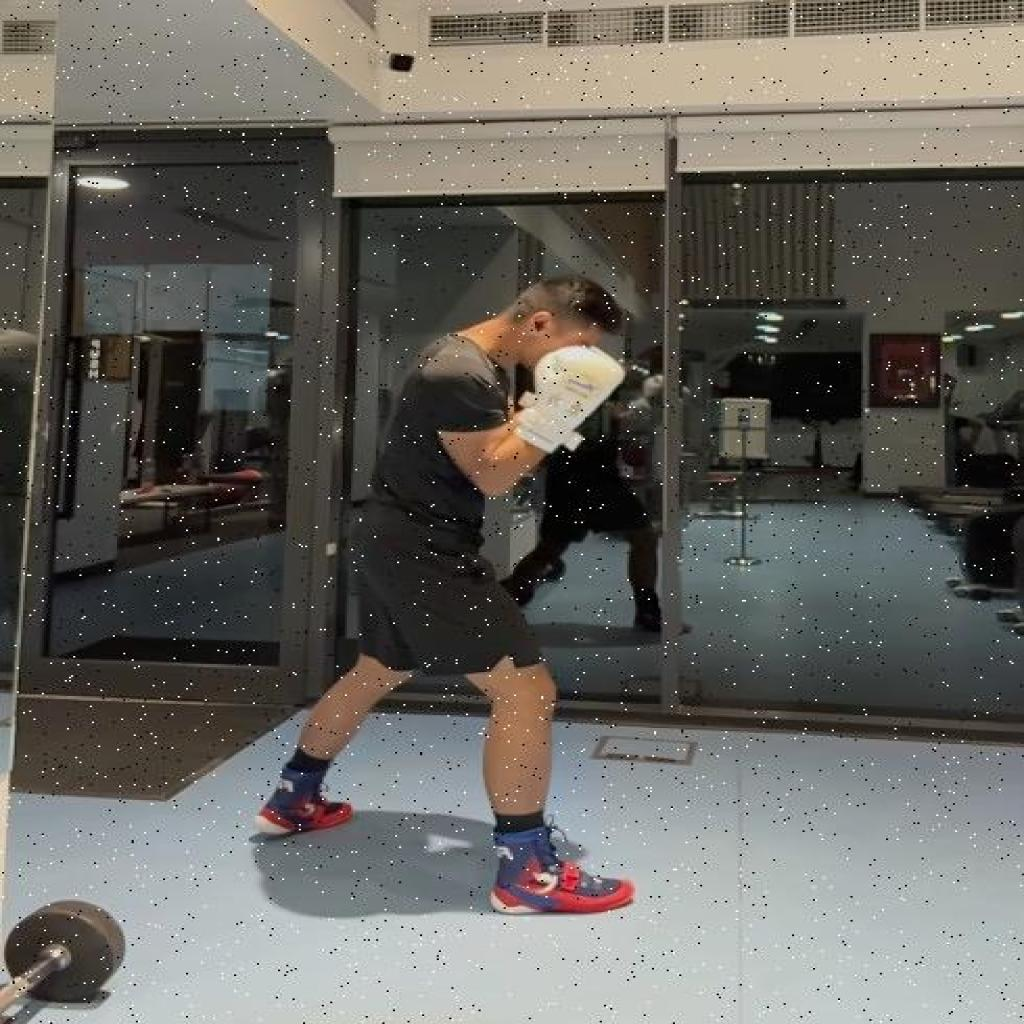no punch: (253, 270, 635, 918)
